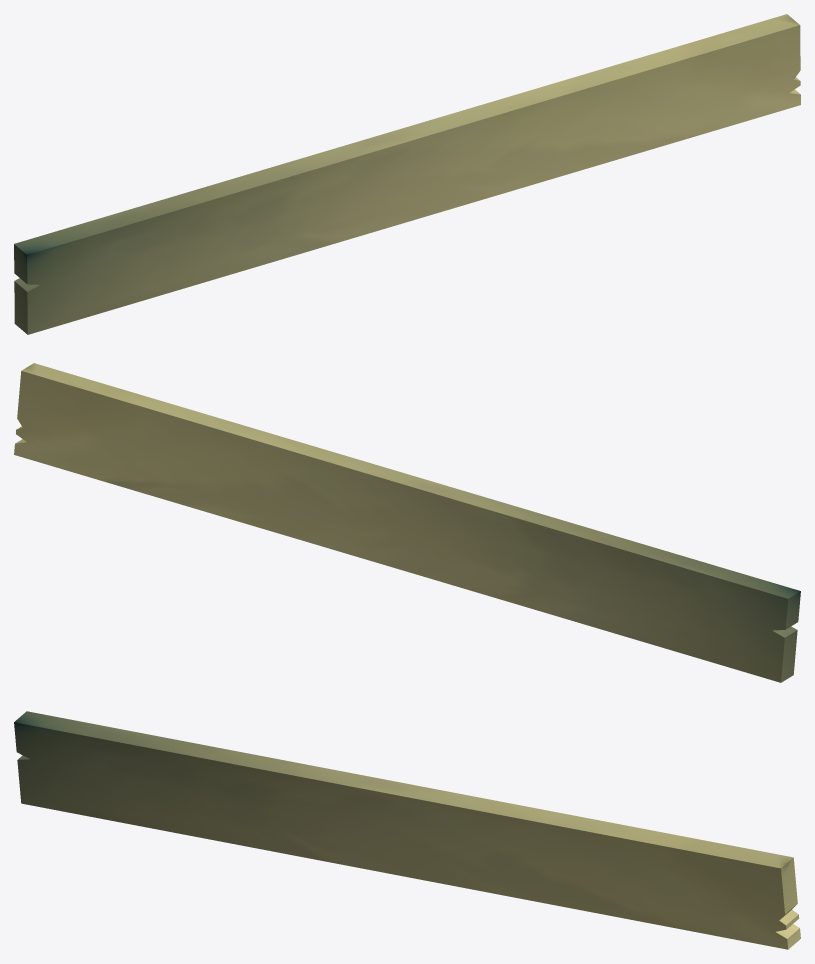
File: Docks_Railing_Board_1_1x1.fbx
The picture shows the model from 3 angles, top to bottom: view 1: azimuth 30°, elevation 25°; view 2: azimuth 150°, elevation 25°; view 3: azimuth 330°, elevation 25°; orthographic projection.
Visible parts, largest first — view 1: Docks_Railing_Board_1_1x1; view 2: Docks_Railing_Board_1_1x1; view 3: Docks_Railing_Board_1_1x1.
Part boxes in pixels (bbox=[...]): Docks_Railing_Board_1_1x1: bbox=[14, 14, 800, 334]; Docks_Railing_Board_1_1x1: bbox=[14, 363, 800, 682]; Docks_Railing_Board_1_1x1: bbox=[14, 711, 800, 949].
Bounding box in the file's own units: 122 × 18.87 × 4.39.
